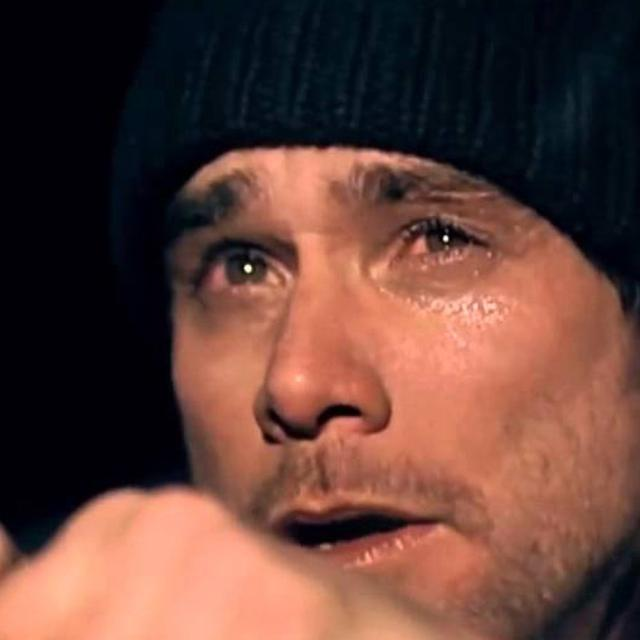Depress: (165, 147, 639, 639)
